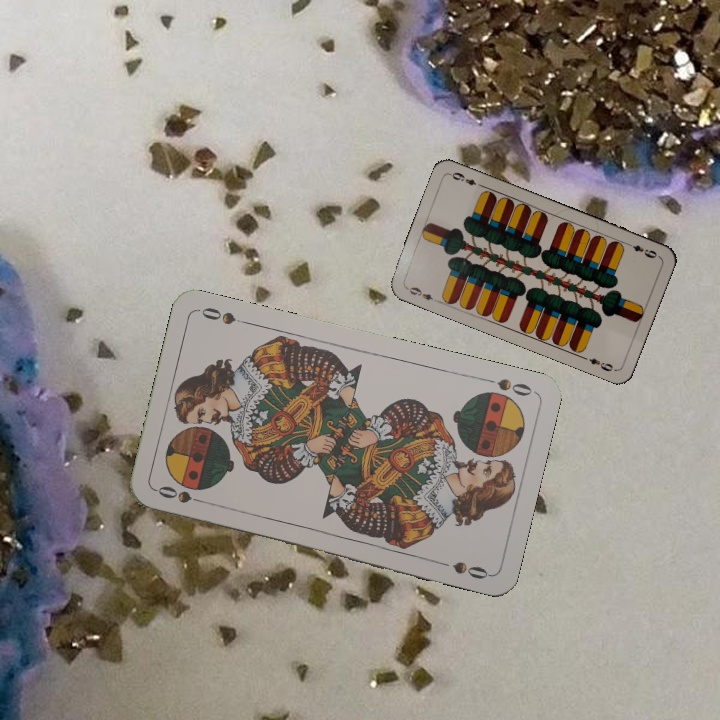E9: (622, 239, 661, 261), (402, 283, 441, 305)
SO: (153, 481, 211, 507), (478, 373, 534, 399)
